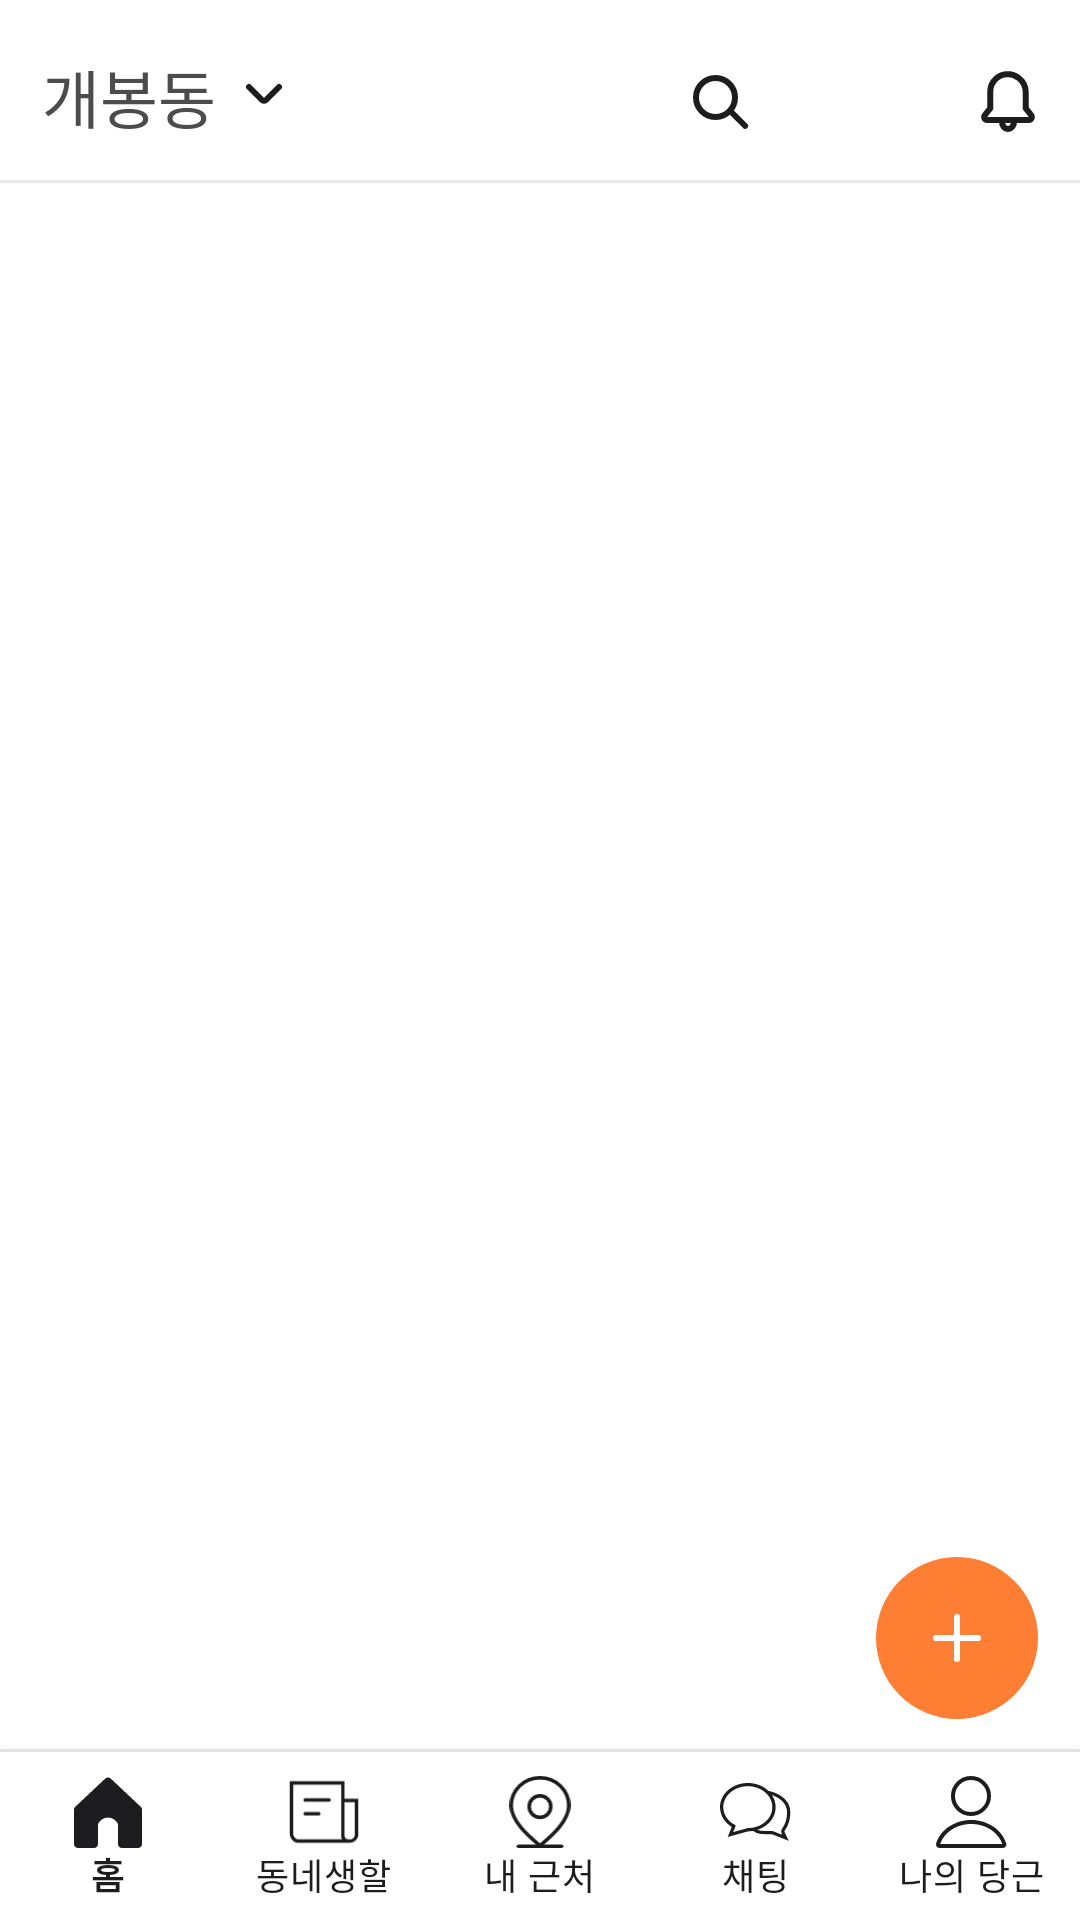

Named icons in this screenshot (1080x1920) and their bounding boxes, (x1, y1, x2, y2):
alarm: (981, 71, 1035, 132)
search: (693, 75, 749, 129)
write: (876, 1557, 1038, 1719)
